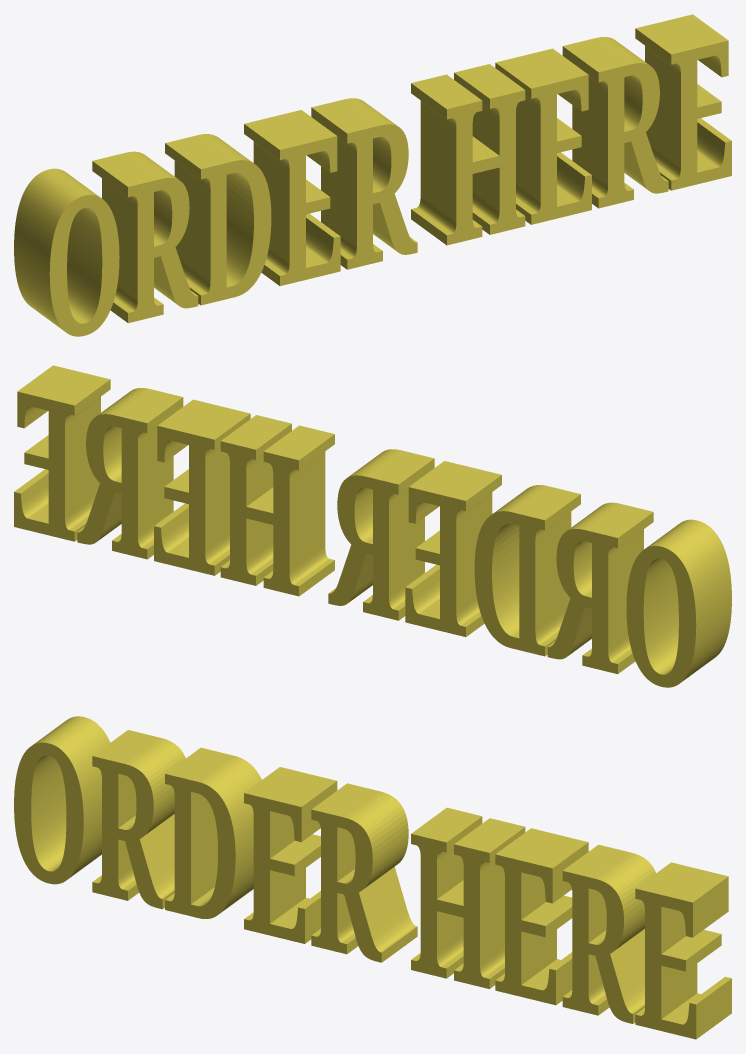
The model's file is kcmc3.glb.
3 views of the same model, one above another, from view 1: azimuth 30°, elevation 25°; view 2: azimuth 150°, elevation 25°; view 3: azimuth 330°, elevation 25° (orthographic).
Visible parts, largest first — view 1: Mesh_Mesh_head_geo.001_lambert2SG.001; view 2: Mesh_Mesh_head_geo.001_lambert2SG.001; view 3: Mesh_Mesh_head_geo.001_lambert2SG.001.
Boxes of the visible parts, x1,y1,x2,y2 form: Mesh_Mesh_head_geo.001_lambert2SG.001: (14, 14, 731, 336); Mesh_Mesh_head_geo.001_lambert2SG.001: (14, 365, 731, 687); Mesh_Mesh_head_geo.001_lambert2SG.001: (14, 716, 731, 1039).
Bounding box in the file's own units: 0.033 × 0.00648 × 0.003.
